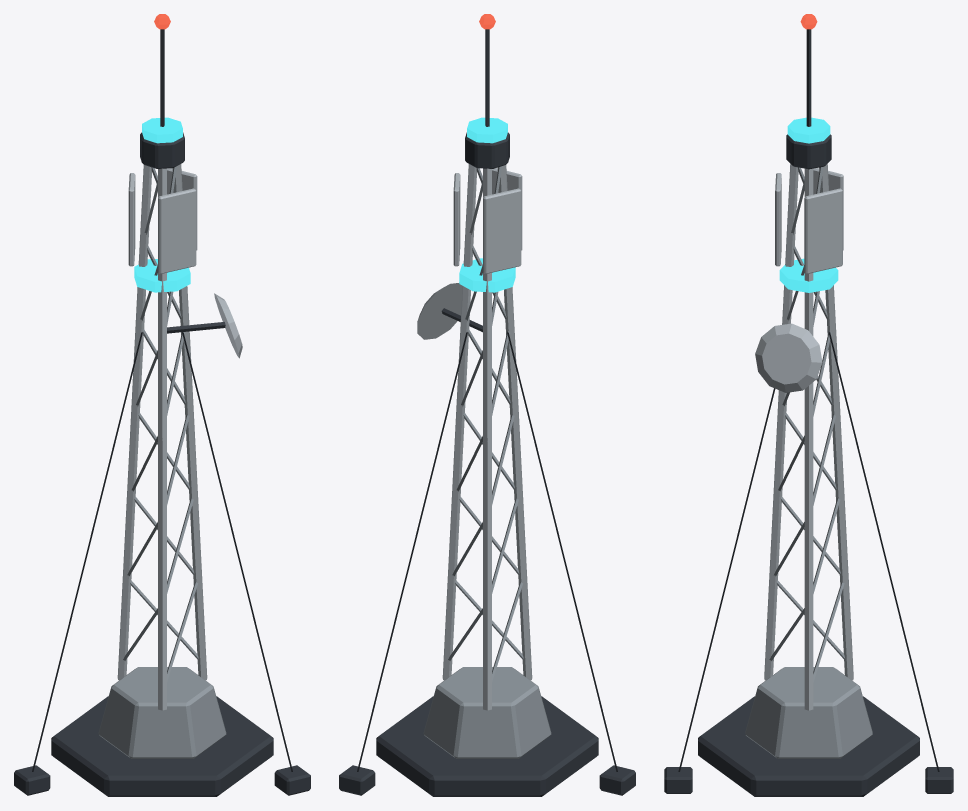
Rendered from exo-relay.glb.
The picture shows the model from 3 angles, left to right: view 1: azimuth 30°, elevation 25°; view 2: azimuth 150°, elevation 25°; view 3: azimuth 270°, elevation 25°; orthographic projection.
Parts seen in each view (by area): view 1: body, charge; view 2: body, charge; view 3: body, charge.
Part boxes in pixels (x1=…): body: x1=14, y1=14, x2=310, y2=796; charge: x1=134, y1=117, x2=190, y2=292; body: x1=339, y1=14, x2=635, y2=796; charge: x1=459, y1=117, x2=515, y2=292; body: x1=664, y1=14, x2=953, y2=796; charge: x1=779, y1=117, x2=838, y2=292.
Bounding box in the file's own units: 5.58 × 17.43 × 6.14.
